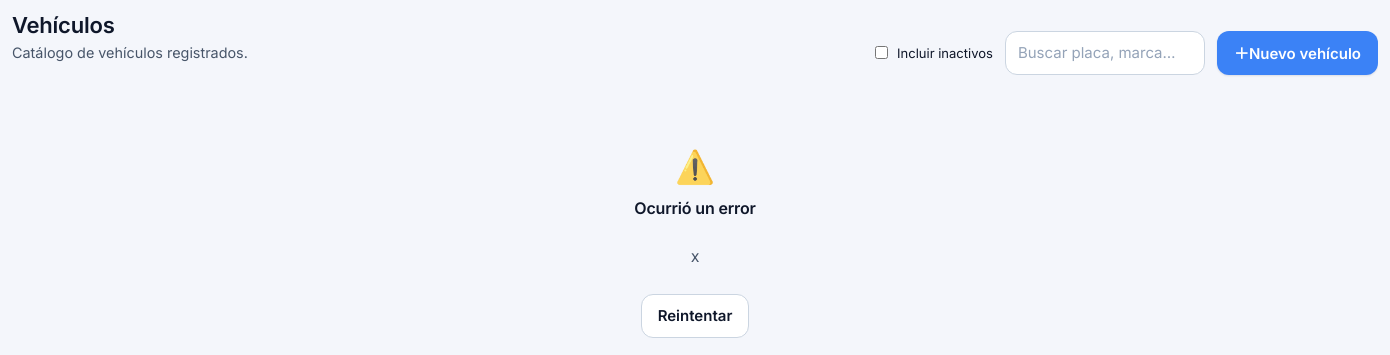
Test: VehiculosPage › error con reintento
The width and height of the screenshot is (1390, 355).
Check: the heading "Ocurrió un error" is shown, box [634,198,756,218]
Click the button "Reintentar" at (695, 316), box [641,294,749,338]
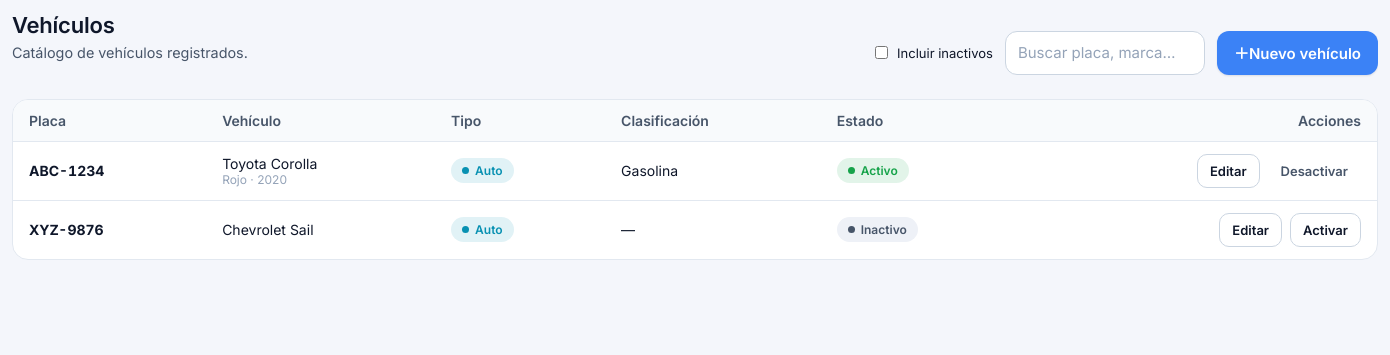
Check: the text "ABC-1234" is shown, box [29,162,104,179]
